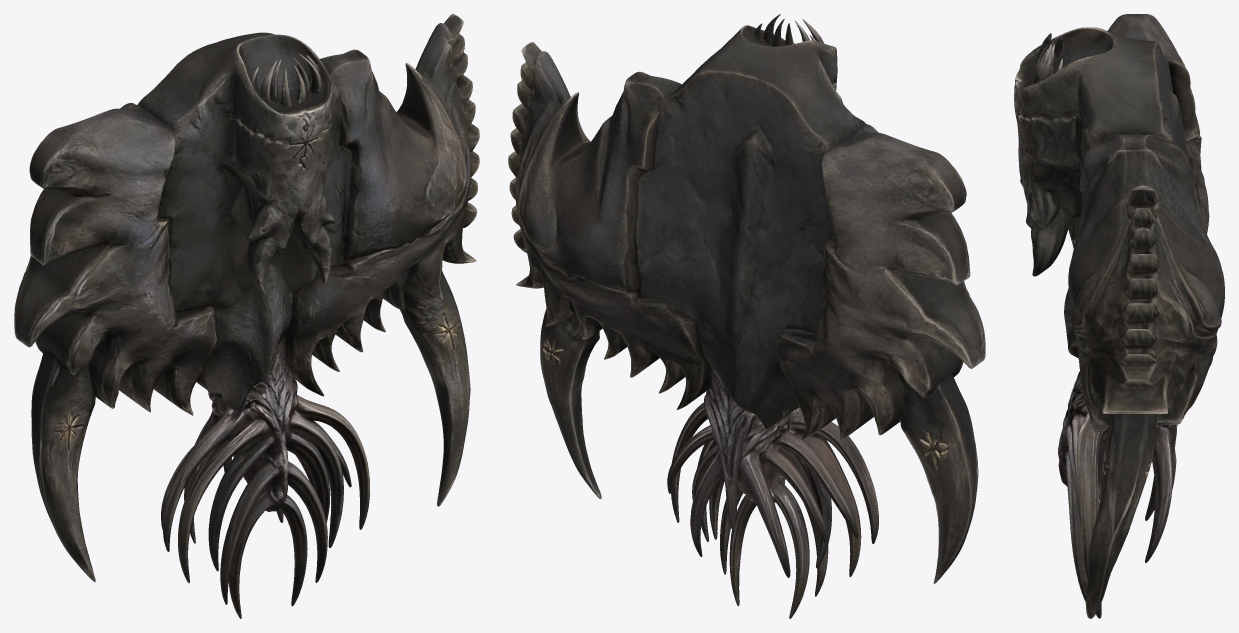
File: StoneShroud.glb
The picture shows the model from 3 angles, left to right: view 1: azimuth 30°, elevation 25°; view 2: azimuth 150°, elevation 25°; view 3: azimuth 270°, elevation 25°; orthographic projection. The views are drawn at different scales.
Size of the model in its own units: 1.58 by 1.9 by 0.6408.
Materials: 1 (1 with a texture image).
